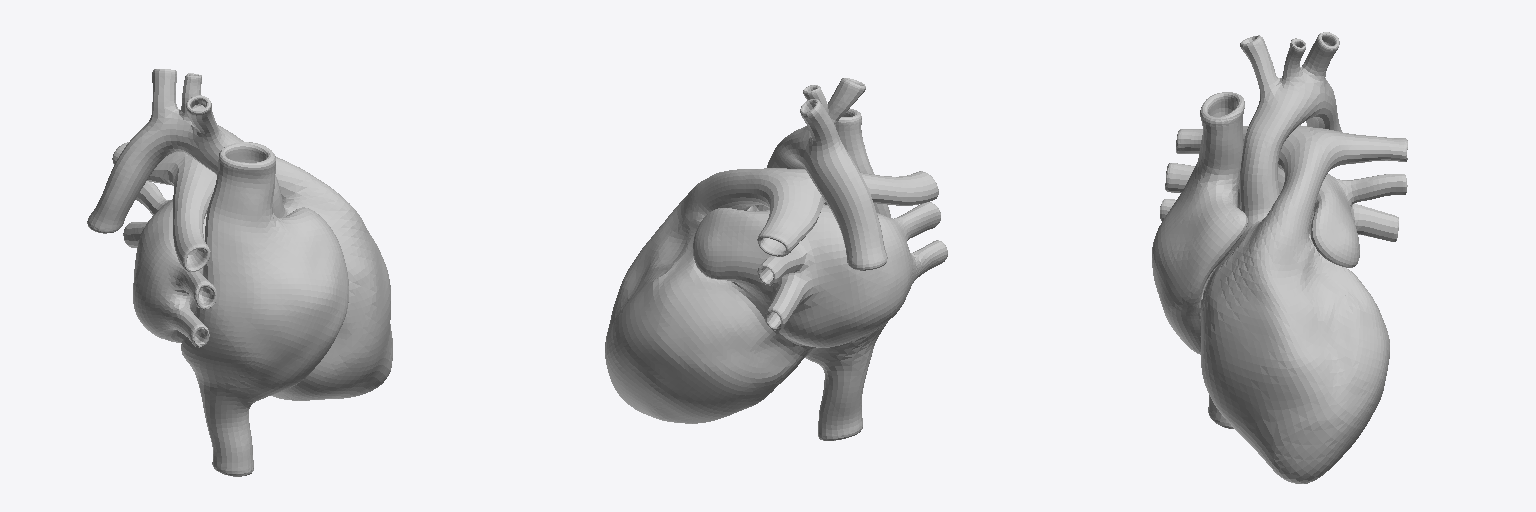
The picture shows the model from 3 angles: view 1: azimuth 30°, elevation 25°; view 2: azimuth 150°, elevation 25°; view 3: azimuth 270°, elevation 25°; orthographic projection.
Visible parts, largest first — view 1: HEART_PRO; view 2: HEART_PRO; view 3: HEART_PRO.
Part boxes in pixels (bbox=[...]): HEART_PRO: bbox=[87, 69, 392, 476]; HEART_PRO: bbox=[605, 78, 947, 440]; HEART_PRO: bbox=[1152, 32, 1407, 483].
Bounding box in the file's own units: 642 × 819 × 505.